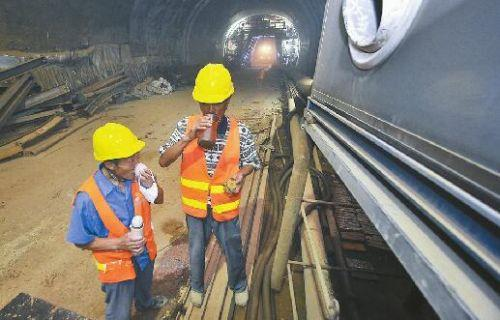helmet: (89, 119, 148, 178), (190, 58, 236, 120)
